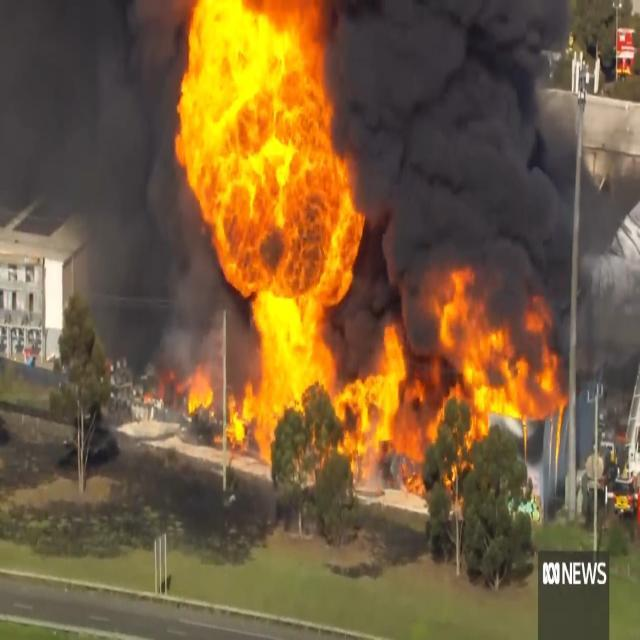fire: (176, 66, 568, 510), (182, 2, 340, 69)
